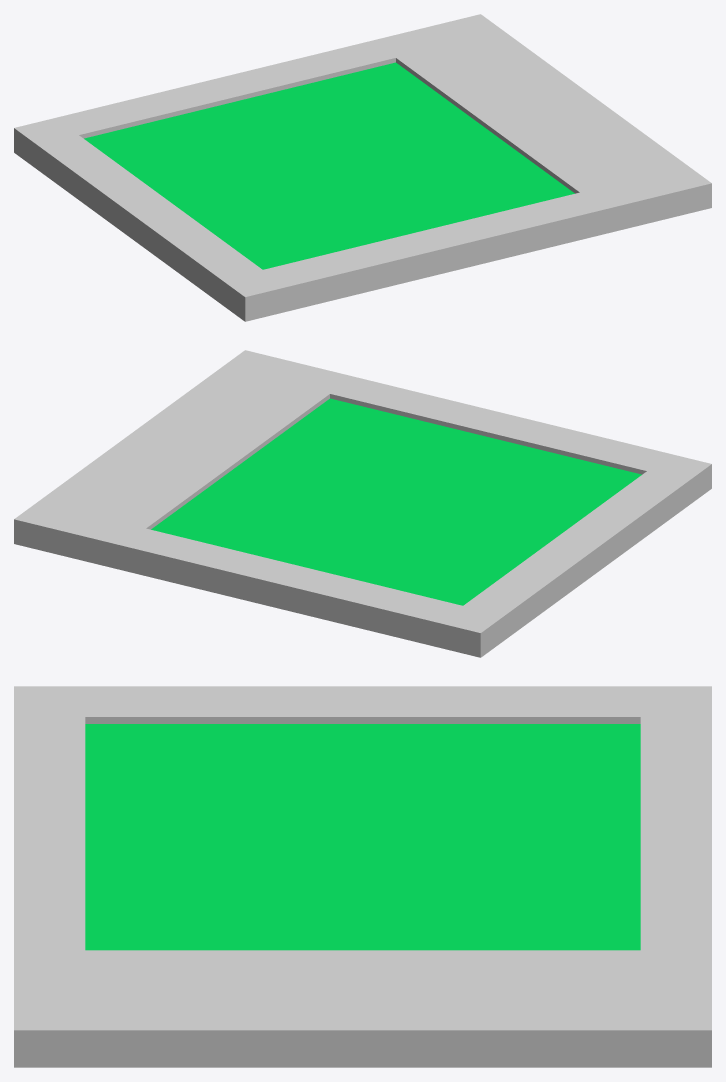
The model's file is Pelicule.fbx.
The picture shows the model from 3 angles, top to bottom: view 1: azimuth 30°, elevation 25°; view 2: azimuth 150°, elevation 25°; view 3: azimuth 270°, elevation 25°; orthographic projection. The views are drawn at different scales.
Visible parts, largest first — view 1: Cube; view 2: Cube; view 3: Cube.
Boxes of the visible parts, x1,y1,x2,y2 form: Cube: (14, 14, 711, 321); Cube: (14, 350, 711, 657); Cube: (14, 686, 711, 1067).
Size of the model in its own units: 233 by 11.77 by 200.
